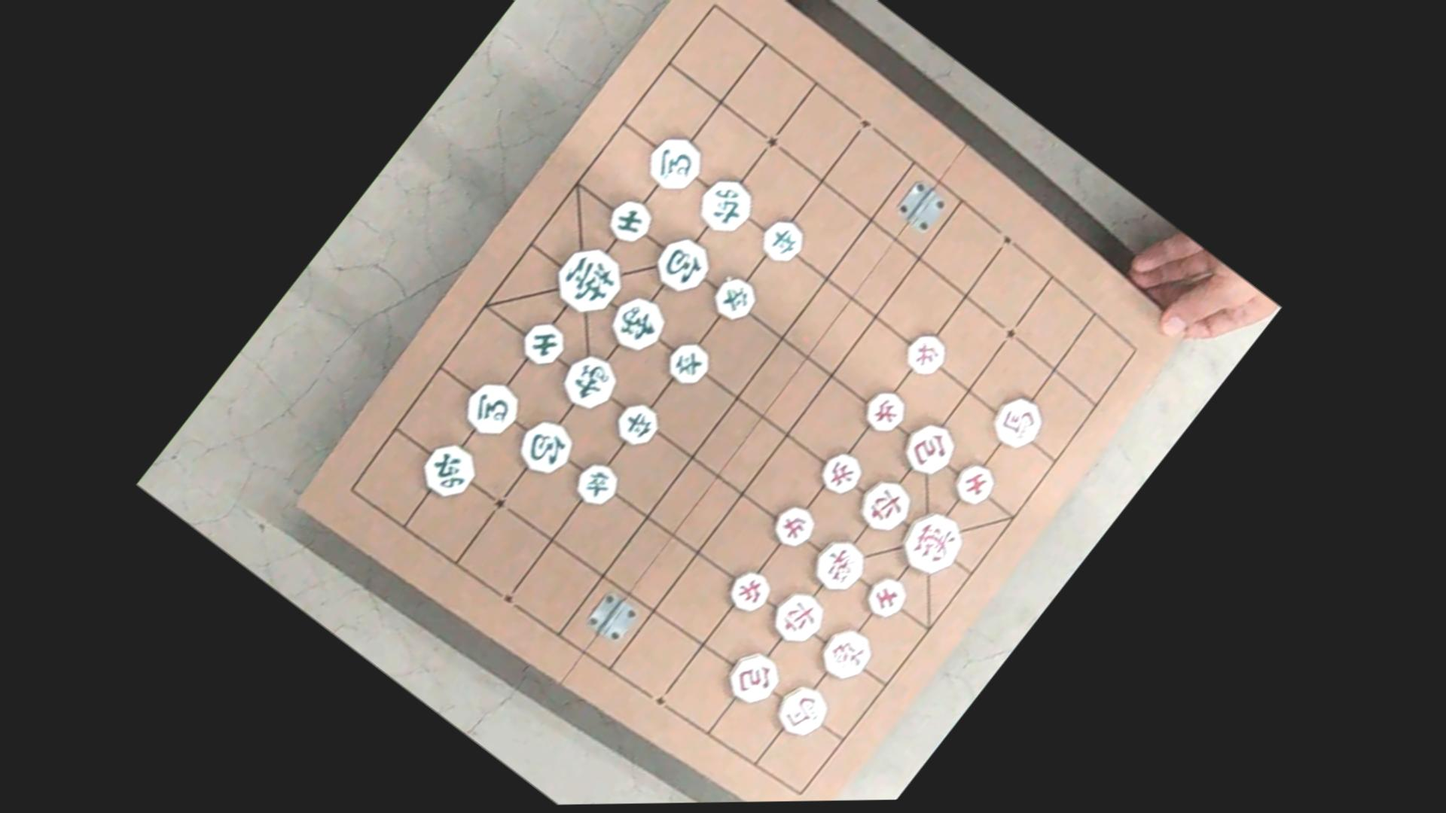cha_green: (689, 169, 763, 240), (413, 434, 486, 504)
cha_red: (849, 470, 920, 539), (764, 583, 832, 650)
jol_green: (568, 455, 626, 511), (754, 212, 812, 267), (660, 335, 717, 390), (707, 269, 764, 324), (609, 396, 666, 451)
jol_red: (857, 383, 914, 437), (721, 563, 777, 617), (813, 446, 869, 499), (767, 499, 821, 552), (899, 327, 953, 379)
ma_green: (639, 127, 712, 197), (456, 373, 528, 442)
ma_red: (767, 677, 837, 744), (983, 388, 1051, 455)
po_green: (646, 229, 719, 300), (509, 411, 582, 482)
po_red: (893, 413, 964, 483), (720, 644, 788, 709)
sa_green: (601, 192, 660, 248), (514, 315, 572, 370)
sa_red: (946, 456, 1002, 510), (859, 570, 914, 623)
sang_green: (601, 288, 675, 358), (554, 346, 627, 416)
sang_red: (805, 531, 874, 598), (813, 620, 880, 685)
wang_green: (545, 236, 634, 324)
wang_red: (890, 502, 973, 583)
